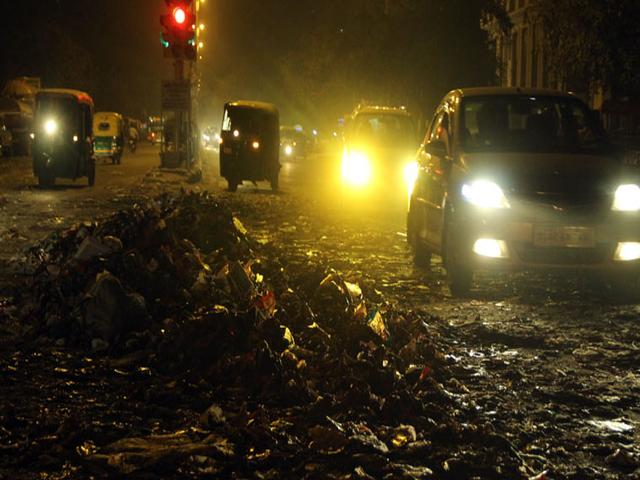garbage: (60, 214, 360, 473)
